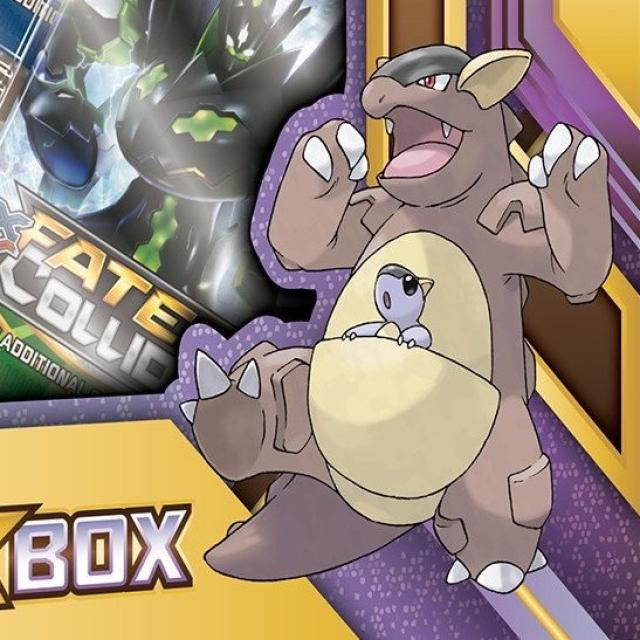Kangaskhan: (184, 32, 618, 596)
